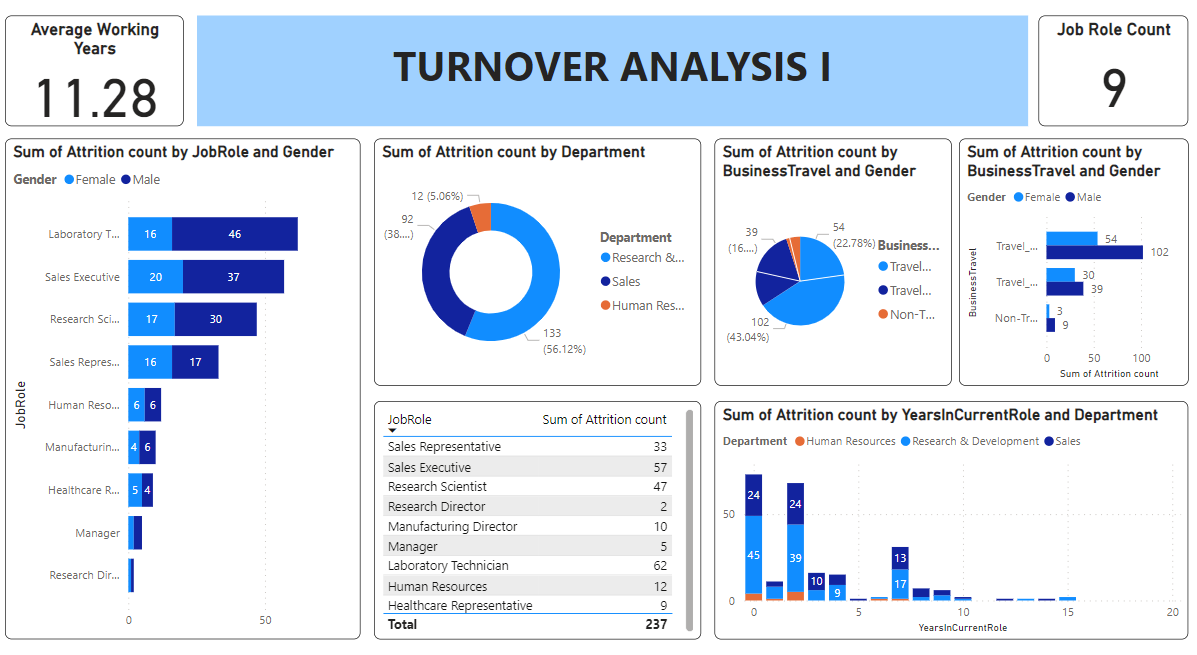

The dashboard page shown, as its layout file describes it:
{"tool":"powerbi","page":{"name":"Page 3","canvas":[1280,720],"ordinal":2},"visuals":[{"type":"barChart","fields":{"Category":["HR-Employee-Attrition.JobRole"],"Y":["Sum(HR-Employee-Attrition.Attrition count)"],"Series":["HR-Employee-Attrition.Gender"]},"box":[9.5,170.1,376.7,530.9],"z":0},{"type":"pieChart","fields":{"Category":["HR-Employee-Attrition.BusinessTravel"],"Series":["HR-Employee-Attrition.Gender"],"Y":["Sum(HR-Employee-Attrition.Attrition count)"]},"box":[761.3,170.1,251.1,262.3],"z":1000},{"type":"donutChart","fields":{"Category":["HR-Employee-Attrition.Department"],"Y":["Sum(HR-Employee-Attrition.Attrition count)"]},"box":[400.5,170.1,346.5,262.3],"z":2000},{"type":"columnChart","fields":{"Category":["HR-Employee-Attrition.YearsInCurrentRole"],"Y":["Sum(HR-Employee-Attrition.Attrition count)"],"Series":["HR-Employee-Attrition.Department"]},"box":[761.3,448.2,502.3,252.7],"z":3000},{"type":"tableEx","fields":{"Values":["HR-Employee-Attrition.JobRole","Sum(HR-Employee-Attrition.Attrition count)"]},"box":[400.5,448.2,346.5,252.7],"z":4000},{"type":"card","title":"Job Role Count","fields":{"Values":["Count(HR-Employee-Attrition.JobRole)"]},"box":[1104.6,39.7,158.9,117.6],"z":5000},{"type":"card","title":"Average Working Years","fields":{"Values":["Avg(HR-Employee-Attrition.TotalWorkingYears)"]},"box":[9.5,39.7,189.1,117.6],"z":6000},{"type":"textbox","box":[213,39.7,880.5,117.6],"z":7000},{"type":"clusteredBarChart","fields":{"Category":["HR-Employee-Attrition.BusinessTravel"],"Series":["HR-Employee-Attrition.Gender"],"Y":["Sum(HR-Employee-Attrition.Attrition count)"]},"box":[1020.4,170.1,243.2,262.3],"z":8000}]}

Visuals, with their boxes in screenshot pixels (x1, y1, x2, y2), scaled from the page's 1280x720 canvas onto the 1197x655 screenshot:
barChart - HR-Employee-Attrition.JobRole x Sum(HR-Employee-Attrition.Attrition count): {"left": 9, "top": 155, "right": 361, "bottom": 638}
pieChart - HR-Employee-Attrition.BusinessTravel x HR-Employee-Attrition.Gender: {"left": 712, "top": 155, "right": 947, "bottom": 393}
donutChart - HR-Employee-Attrition.Department x Sum(HR-Employee-Attrition.Attrition count): {"left": 375, "top": 155, "right": 699, "bottom": 393}
columnChart - HR-Employee-Attrition.YearsInCurrentRole x Sum(HR-Employee-Attrition.Attrition count): {"left": 712, "top": 408, "right": 1182, "bottom": 638}
tableEx - HR-Employee-Attrition.JobRole x Sum(HR-Employee-Attrition.Attrition count): {"left": 375, "top": 408, "right": 699, "bottom": 638}
"Job Role Count" card: {"left": 1033, "top": 36, "right": 1182, "bottom": 143}
"Average Working Years" card: {"left": 9, "top": 36, "right": 186, "bottom": 143}
textbox: {"left": 199, "top": 36, "right": 1023, "bottom": 143}
clusteredBarChart - HR-Employee-Attrition.BusinessTravel x HR-Employee-Attrition.Gender: {"left": 954, "top": 155, "right": 1182, "bottom": 393}
